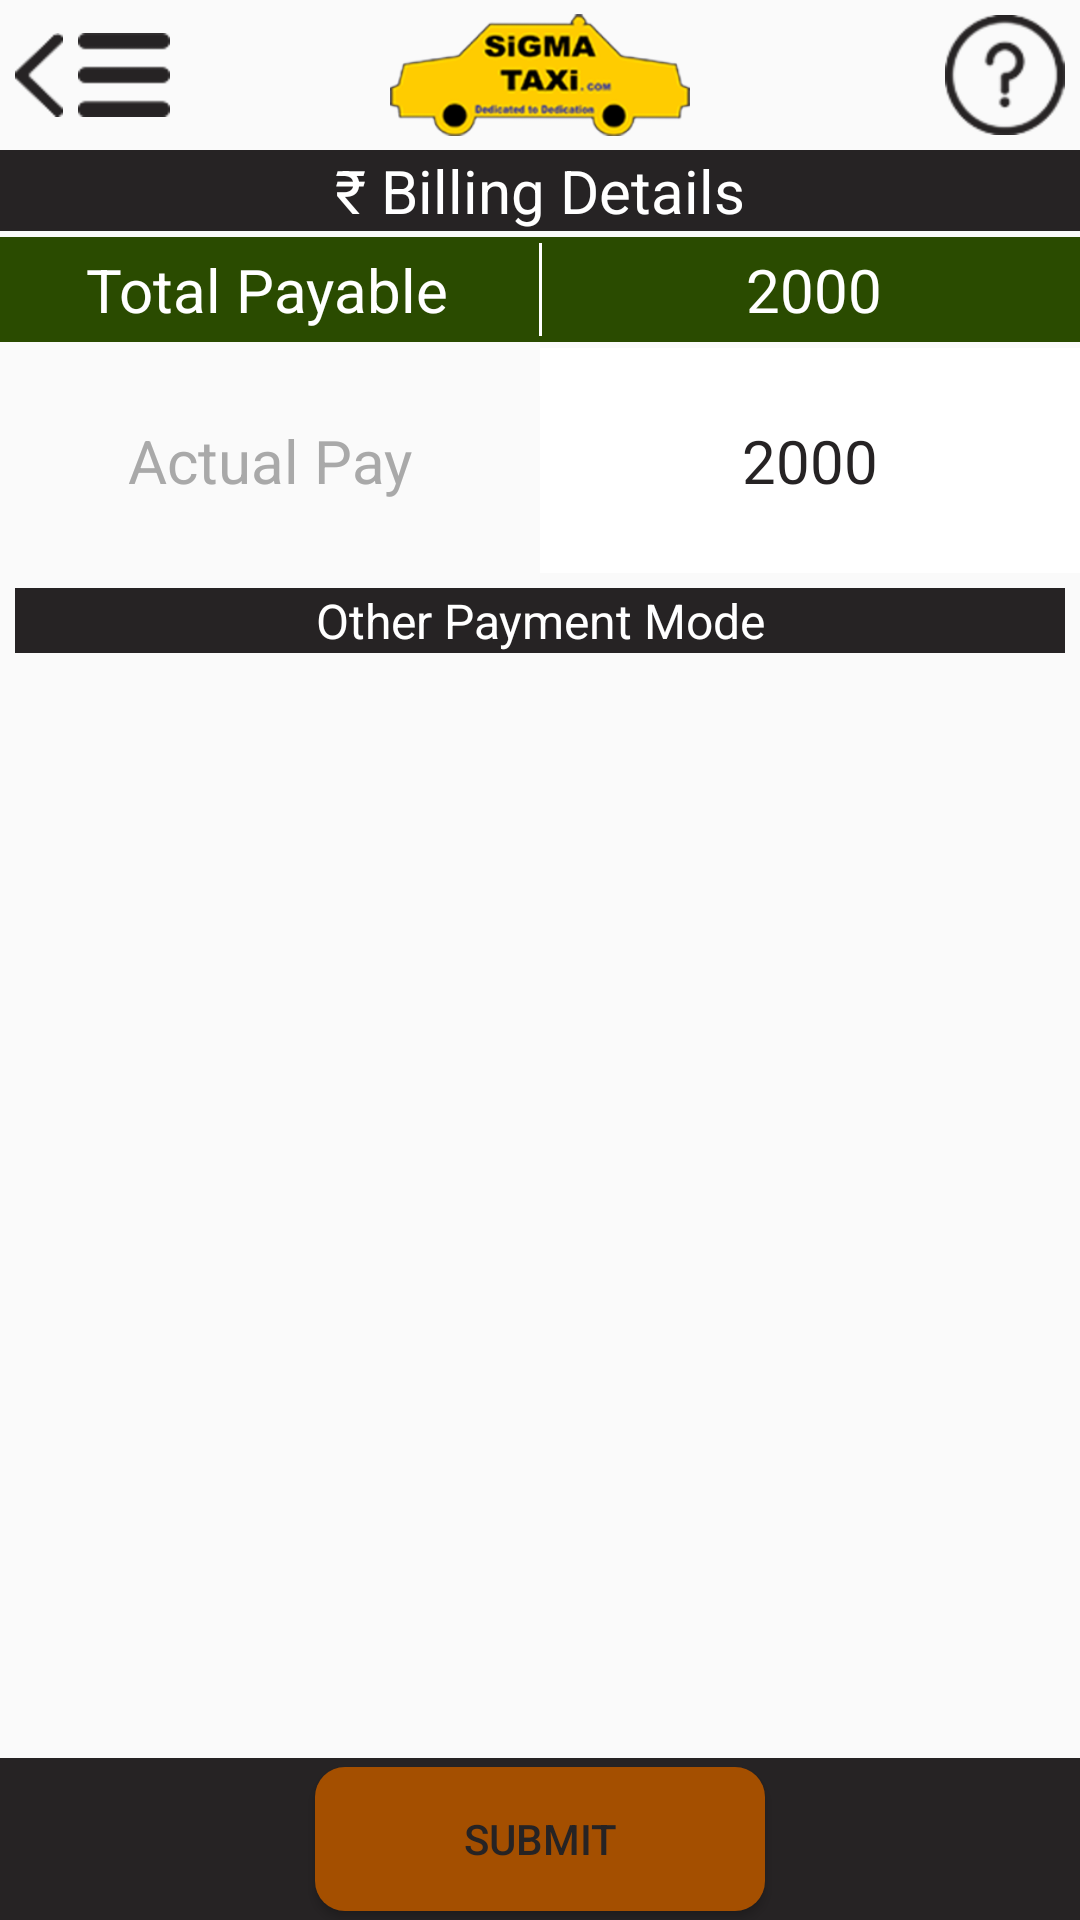

Locate icon controls on the screen. Image size 1080 x 1920, boxes as (x1, y1, x2, y2).
back: (15, 33, 63, 117)
help: (945, 15, 1065, 135)
menu: (78, 33, 170, 117)
